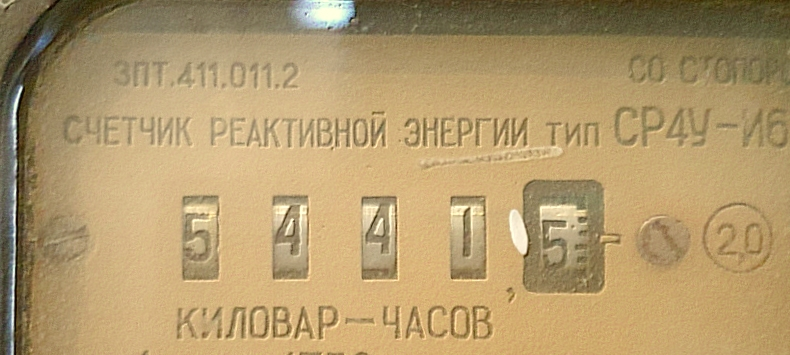1: (453, 203, 479, 262)
4: (358, 196, 398, 263), (270, 198, 308, 261)
5: (536, 213, 574, 277), (178, 208, 218, 267)
screen: (154, 142, 633, 325)
